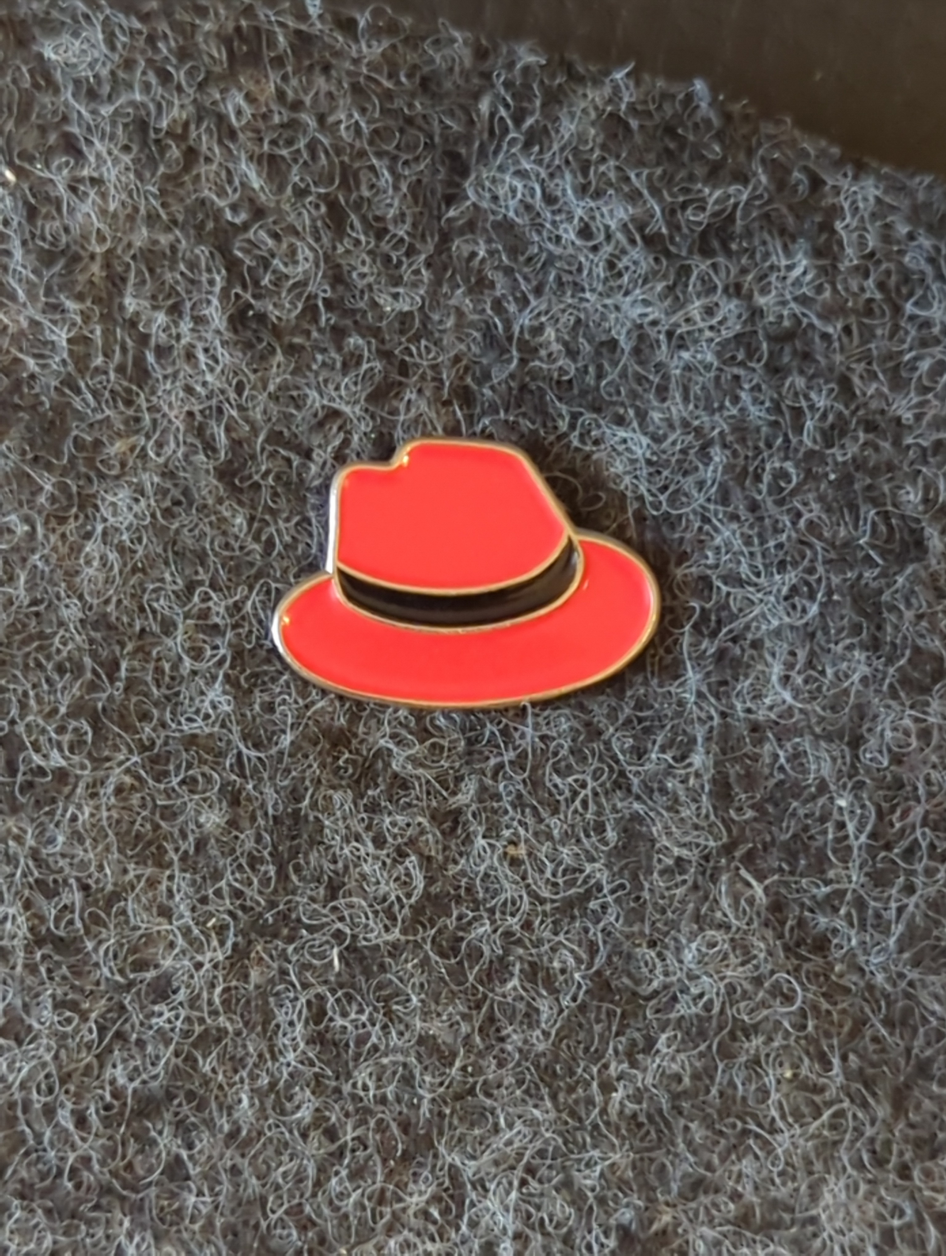Red-Hat: (199, 373, 811, 818)
